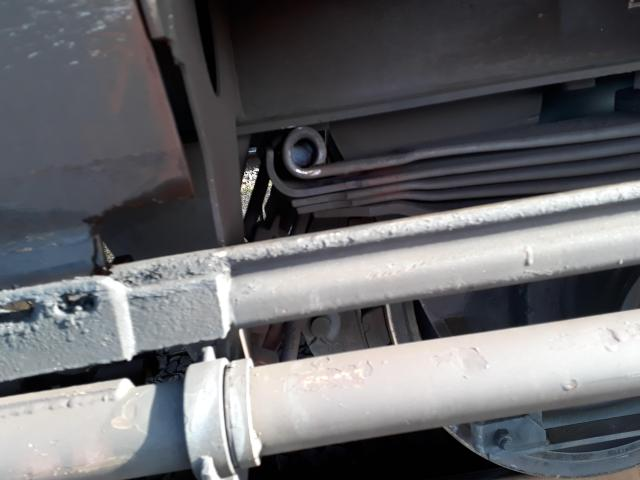blattfederww: (252, 129, 640, 201)
